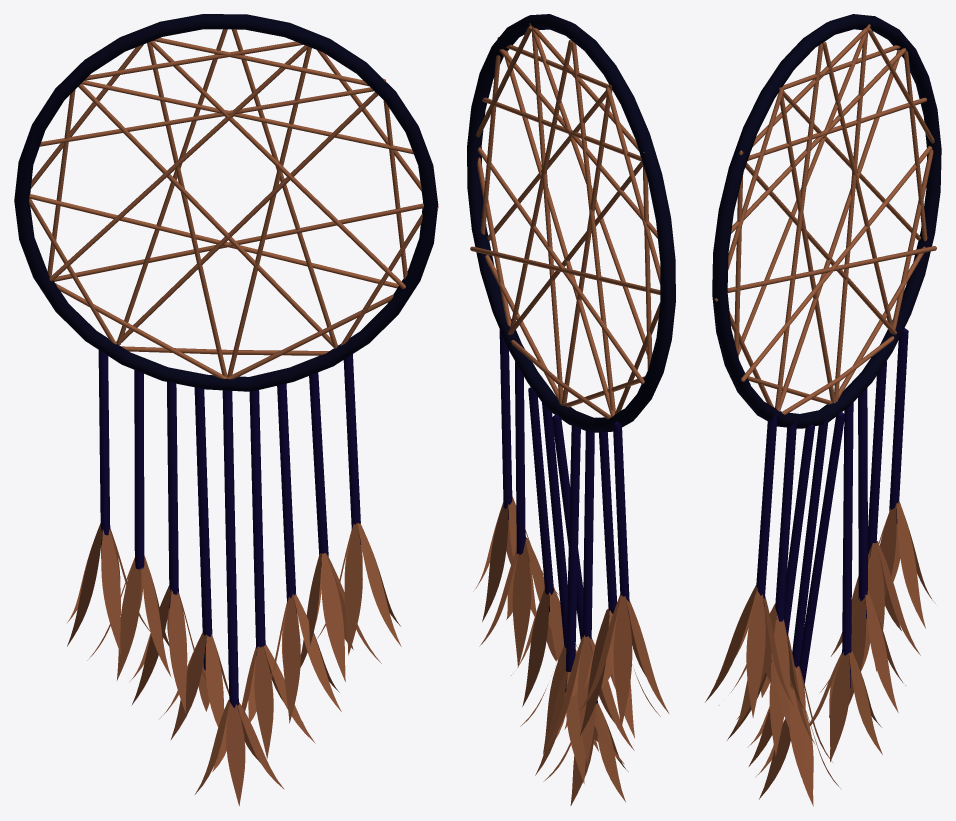
3 views of the same model, side by side, from view 1: azimuth 30°, elevation 25°; view 2: azimuth 150°, elevation 25°; view 3: azimuth 270°, elevation 25° (orthographic).
Parts seen in each view (by area): view 1: brush_Icing_g1_b0, brush_Petal_g1_b0; view 2: brush_Icing_g1_b0, brush_Petal_g1_b0; view 3: brush_Icing_g1_b0, brush_Petal_g1_b0.
Boxes of the visible parts, x1=… form: brush_Icing_g1_b0: x1=14, y1=14, x2=438, y2=711; brush_Petal_g1_b0: x1=67, y1=523, x2=401, y2=805; brush_Icing_g1_b0: x1=467, y1=14, x2=675, y2=703; brush_Petal_g1_b0: x1=473, y1=496, x2=669, y2=805; brush_Icing_g1_b0: x1=712, y1=14, x2=941, y2=688; brush_Petal_g1_b0: x1=705, y1=501, x2=935, y2=806.
Bounding box in the file's own units: 3.35 × 7.82 × 2.2.
